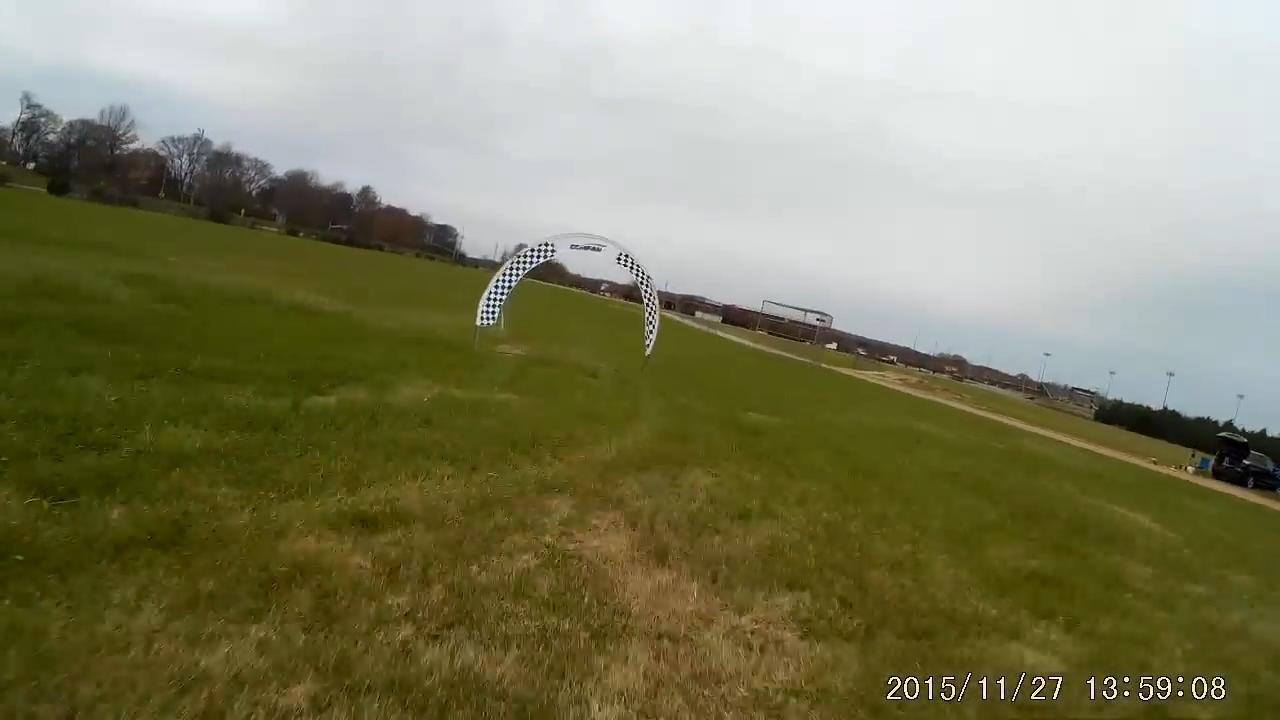gate: (471, 227, 658, 362)
